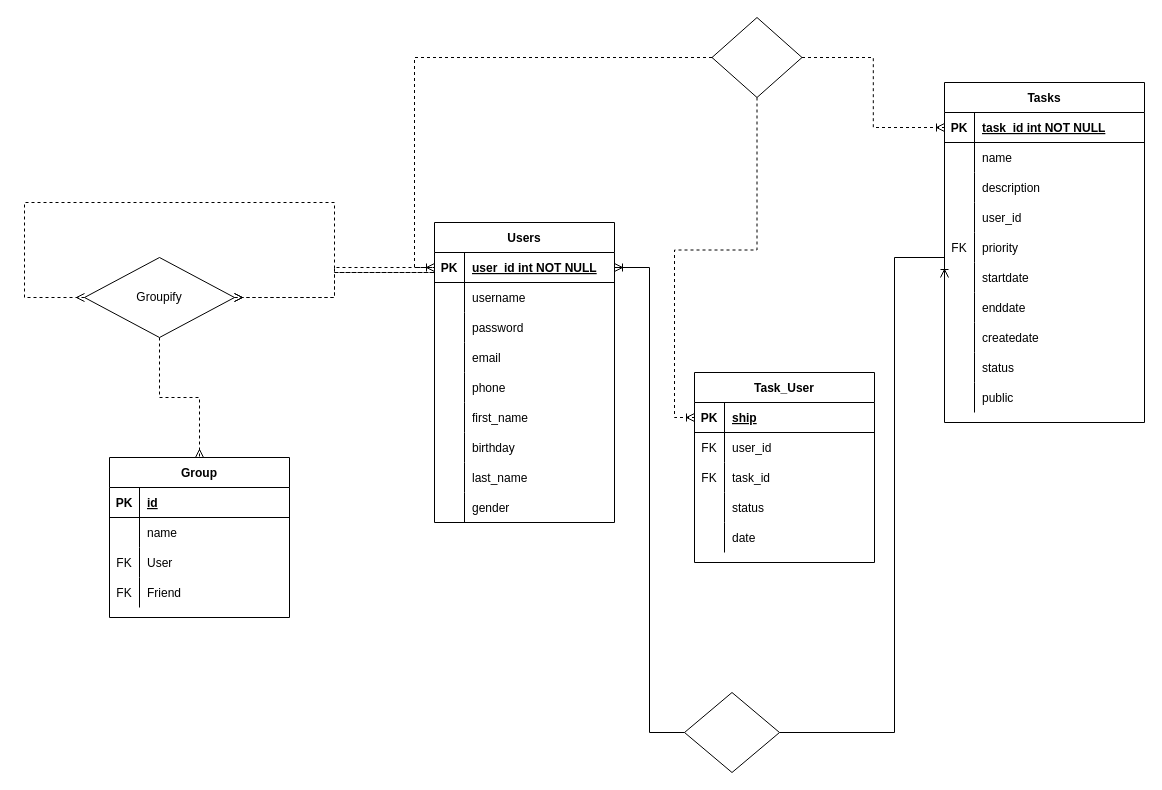
Some shapes in this 1162 by 790 pixel diagram are drawn without their labels. Here are the shapes that lost their labels. From the top down, the centre of each, then its label:
(x=756, y=57): Referer
(x=732, y=732): Create
